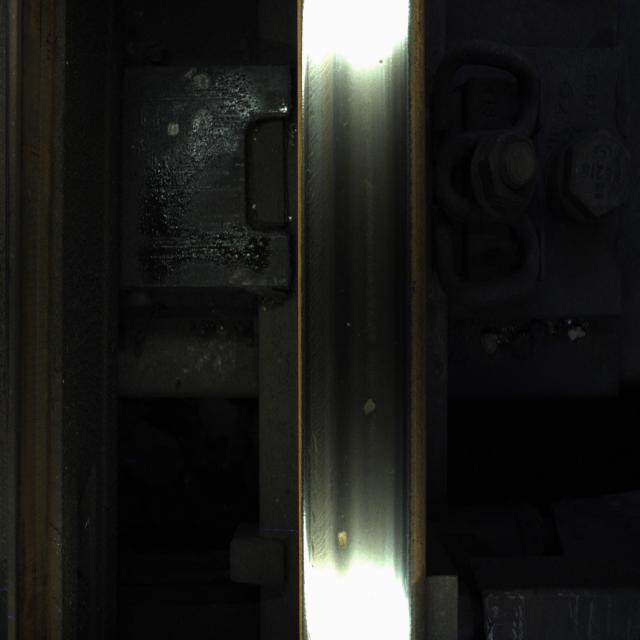break: (315, 41, 394, 499)
